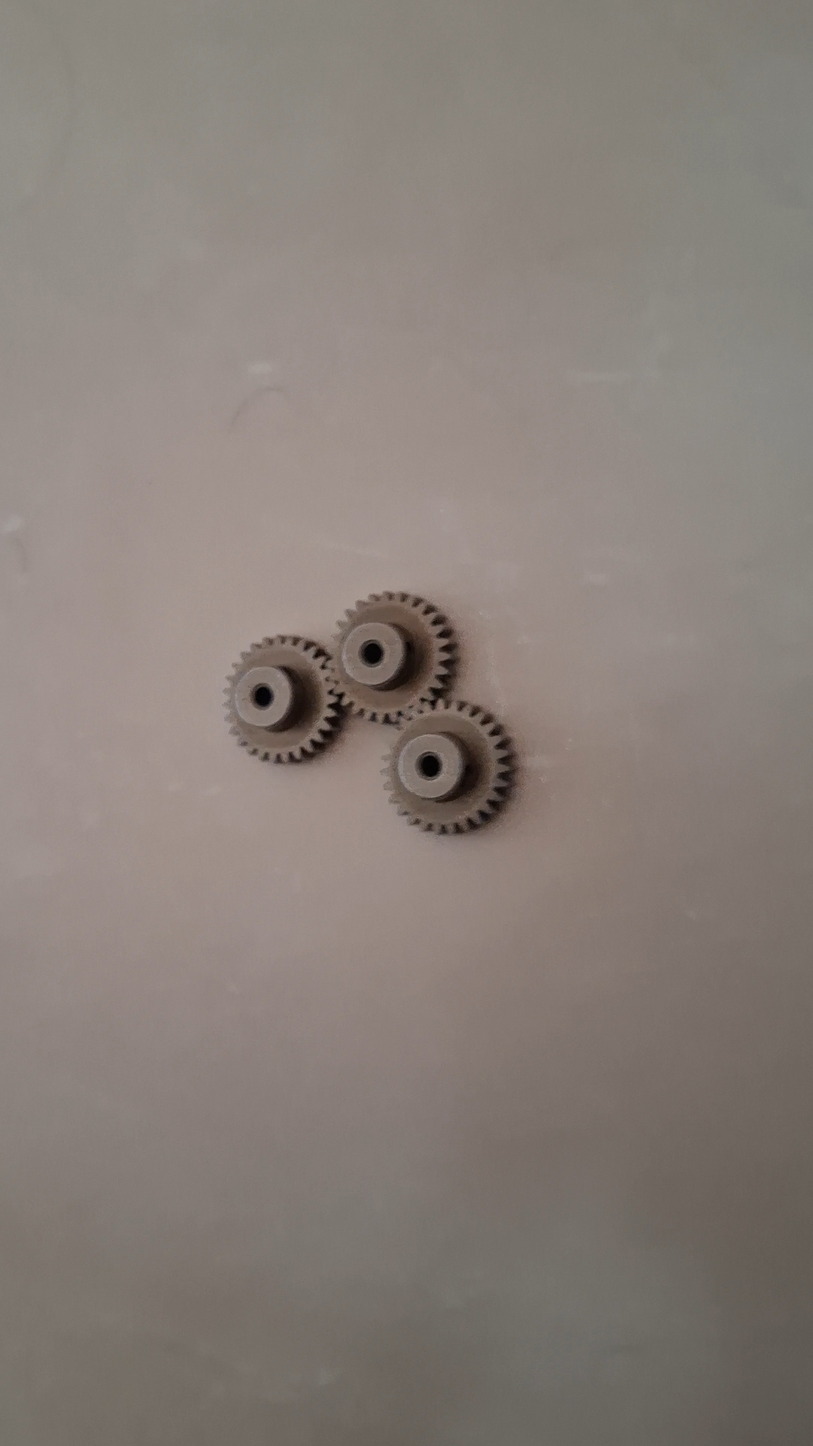spur gear: (383, 700, 513, 834), (333, 592, 456, 723), (225, 635, 341, 762)
